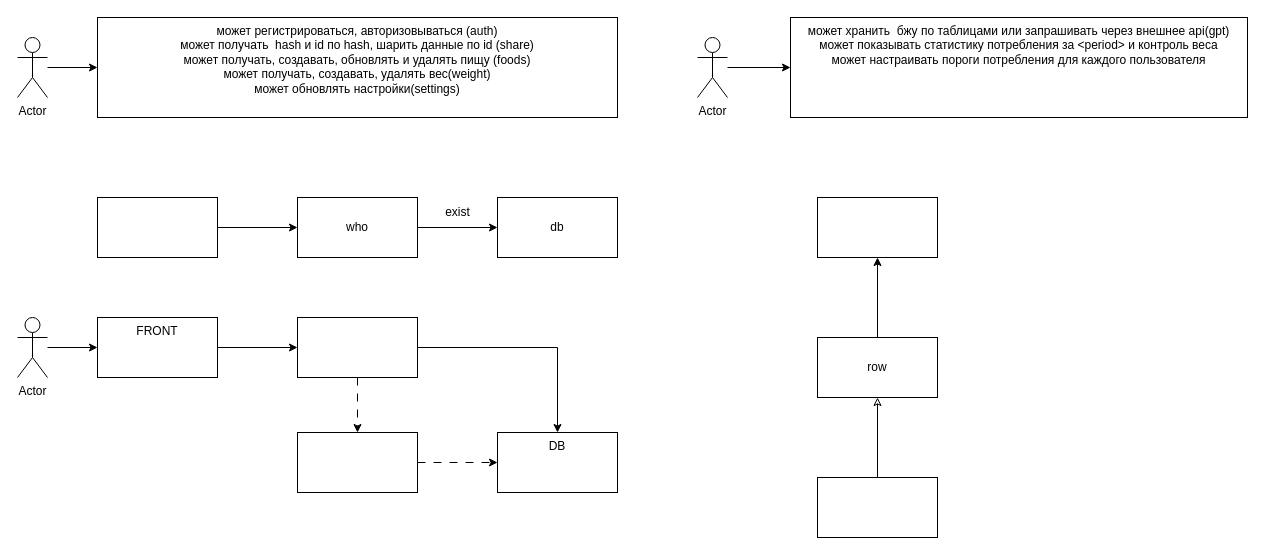
Some shapes in this 1265 by 555 pixel diagram are drawn without their labels. The centre of each missing label's shape, as x and y in pixels:
API: the point at 357,347
CACHE: the point at 357,462
cell: the point at 877,227
data: the point at 157,227
table: the point at 877,507
